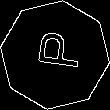P_W: (27, 33, 83, 77)
